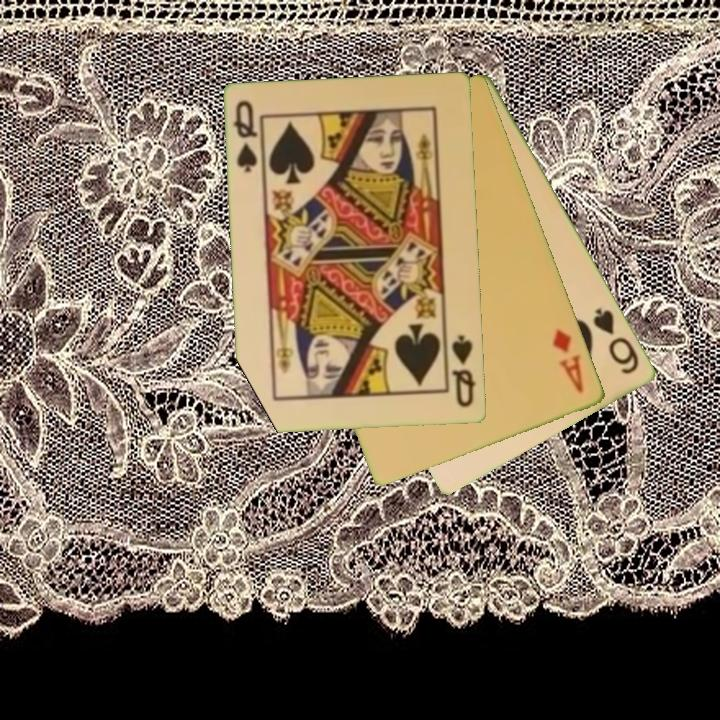6s: (590, 305, 643, 378)
Ad: (549, 325, 588, 396)
Qs: (231, 97, 265, 176), (449, 332, 479, 411)
